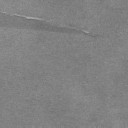finishing roll printing: (0, 12, 102, 38)
